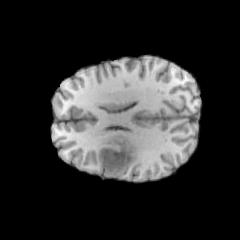glioma: (96, 135, 138, 178)
